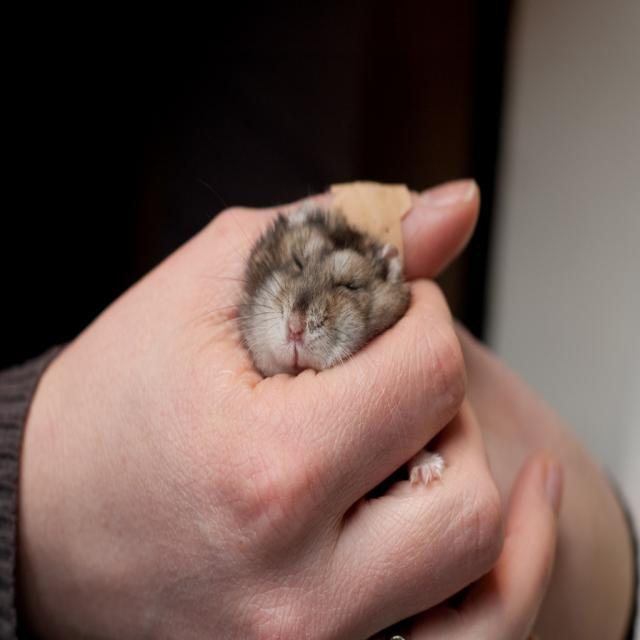rat: (190, 201, 450, 482)
